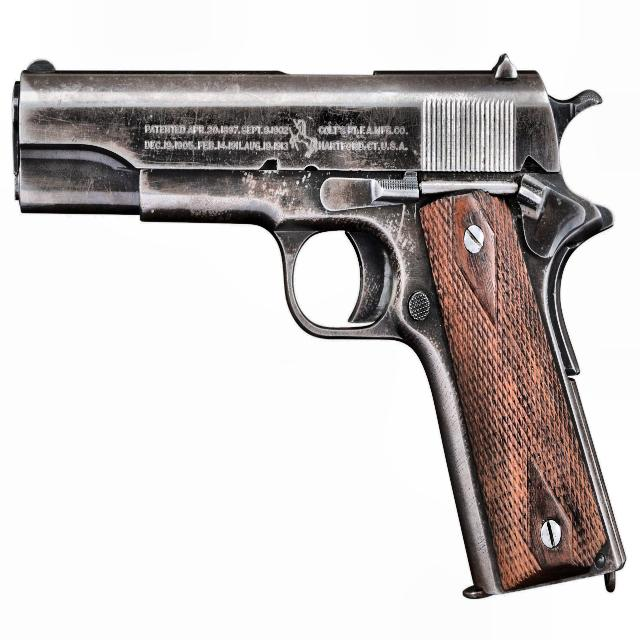Colt m1911: (10, 53, 626, 600)
